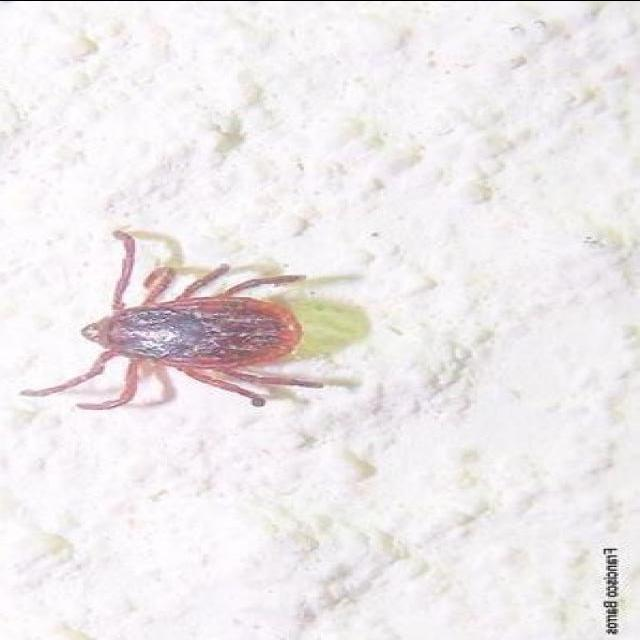Rhipicephalus Sanguineus-F: (21, 230, 321, 409)
